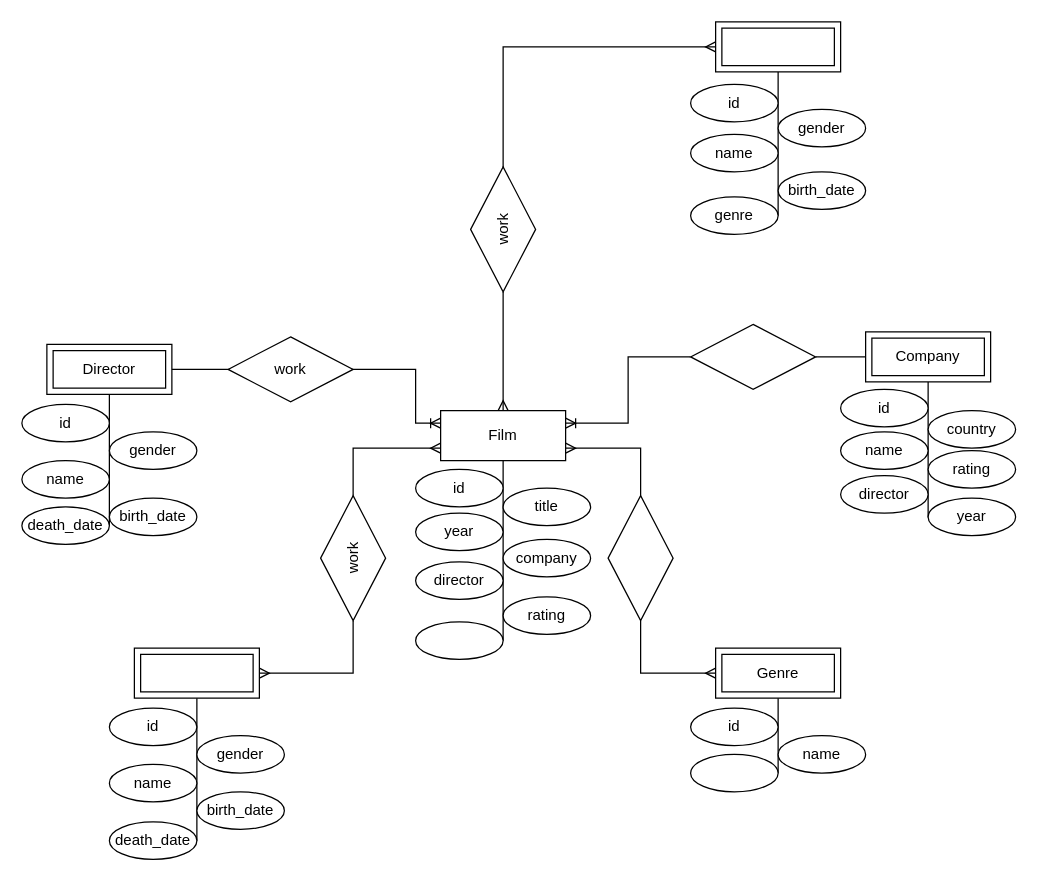
This 1039x881 diagram has some shape labels left out. The shapes that lost their labels are listed below. From the top down, each one's box as (x1, y1, x2, y2) in pixels, then its label:
(714, 21, 841, 72): Screenwriter
(689, 323, 816, 389): create
(607, 494, 673, 621): characterize
(414, 621, 503, 659): duration
(133, 647, 259, 698): Actor
(689, 753, 778, 792): description
